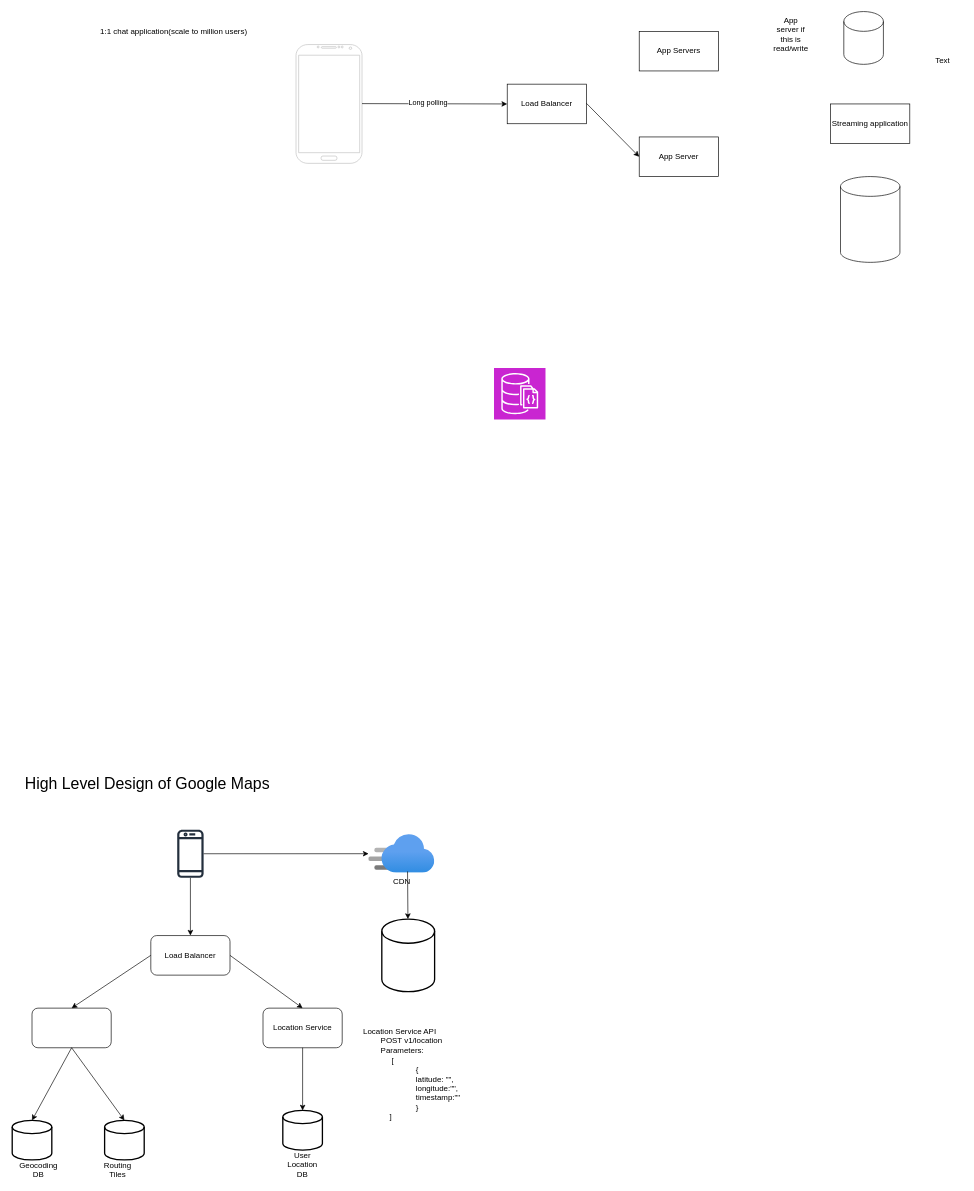
Some shapes in this 974 by 1191 pixel diagram are drawn without their labels. The shapes that lost their labels are listed below. From the top down, each one's centre as x and y in pixels, then its label:
(863,37): Kafka
(870,219): Cassandra
(408,955): Map Tiles
(71,1027): Navigation Service
